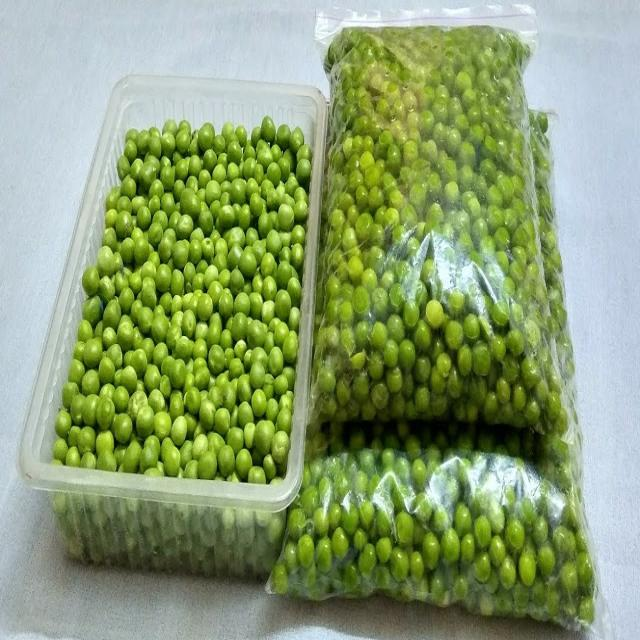Peas: (268, 13, 601, 628), (312, 27, 574, 434), (58, 118, 310, 483), (245, 278, 252, 293)
